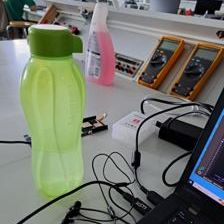bottle: (18, 21, 88, 202)
